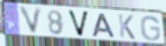8: (46, 10, 64, 36)
A: (91, 13, 117, 39)
G: (140, 15, 162, 42)
K: (117, 13, 136, 41)
V: (18, 5, 44, 37), (66, 9, 90, 39)
